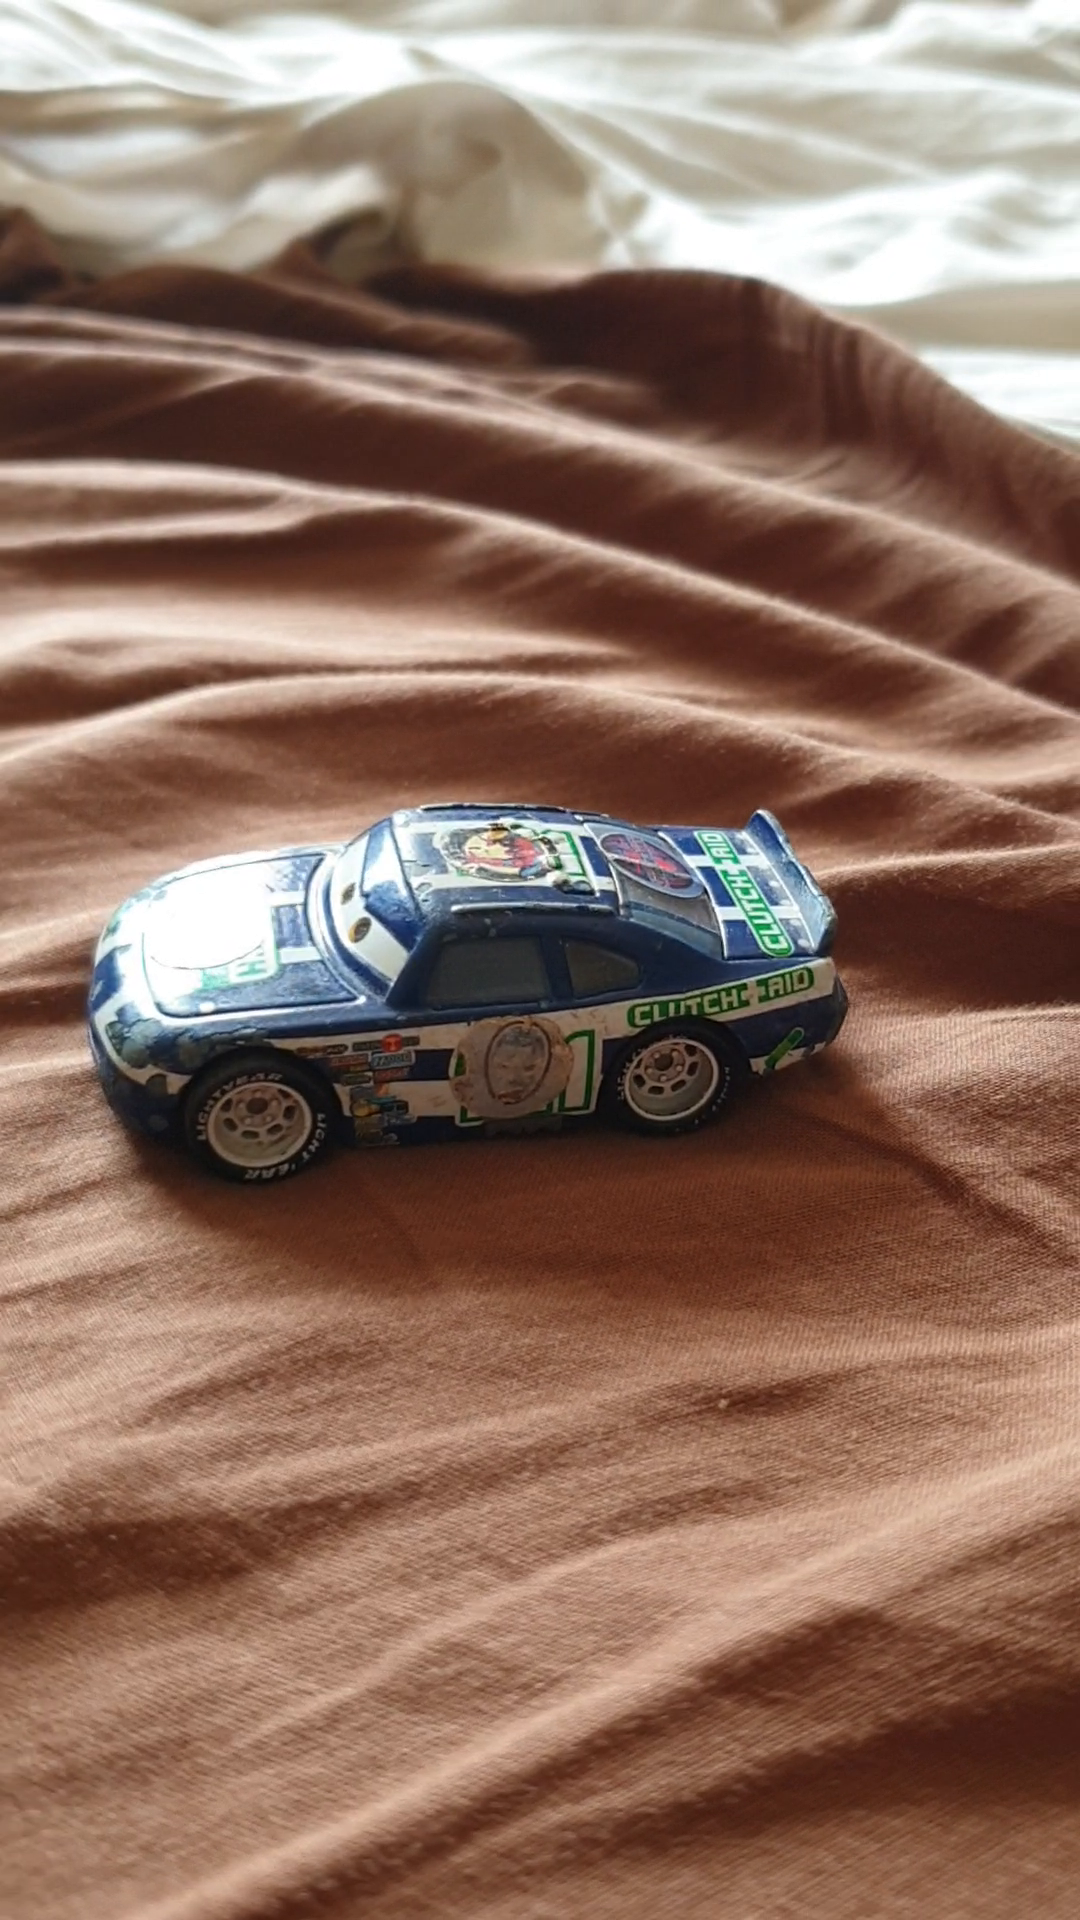cars: (84, 796, 851, 1189)
